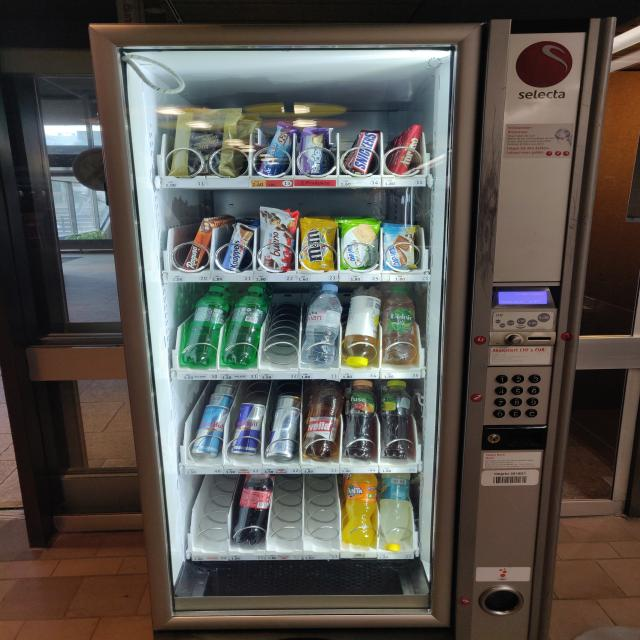bueno___43__4008400320328: (260, 209, 298, 272)
coke__flasche_50__54491472: (230, 474, 270, 544)
darwida_chocaulait____: (381, 224, 416, 270)
darwida_sandwich____7610032065170: (342, 220, 380, 269)
evian___50__3068320353500: (301, 281, 340, 366)
fanta___50__40822938: (344, 473, 378, 546)
fuse_lemon__50__5449000235947: (380, 379, 412, 460)
fuse_peach__50__5449000236623: (342, 380, 379, 460)
jlbrichard_gauffrechoko__90__5410495002079: (169, 107, 242, 176)
knoppers_riegel____4035800488808: (222, 223, 255, 269)
milka_oreo_riegel_37_1_7622210704740: (256, 123, 293, 177)
milka_tender____: (299, 127, 331, 176)
mnms_gelb__45__40111445: (301, 218, 336, 271)
momo_icetea__50__: (343, 284, 383, 369)
ragusa___50__76401121: (182, 218, 213, 272)
redbull___33__90162909: (267, 407, 300, 461), (232, 404, 264, 456)
redbull_light__33__90162800: (194, 404, 228, 458)
rivella_rot__50__7610097111072: (301, 380, 342, 459)
schweppes_bitterlemon__50__: (378, 472, 413, 552)
snickers___50__5000159461122: (351, 129, 380, 175)
torino___46__76415272: (391, 126, 422, 176)
valser_classic__50__76404160: (185, 286, 230, 366), (223, 285, 266, 367)
volvic_teeminze__50__3057640335648: (381, 286, 415, 364)
